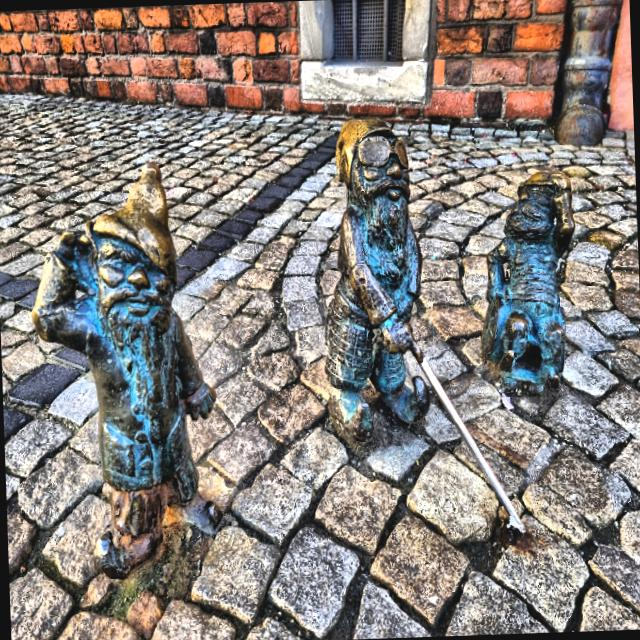Gluchak: (32, 162, 222, 577)
Slepak: (325, 119, 524, 532)
W-Skers: (482, 172, 574, 390)
